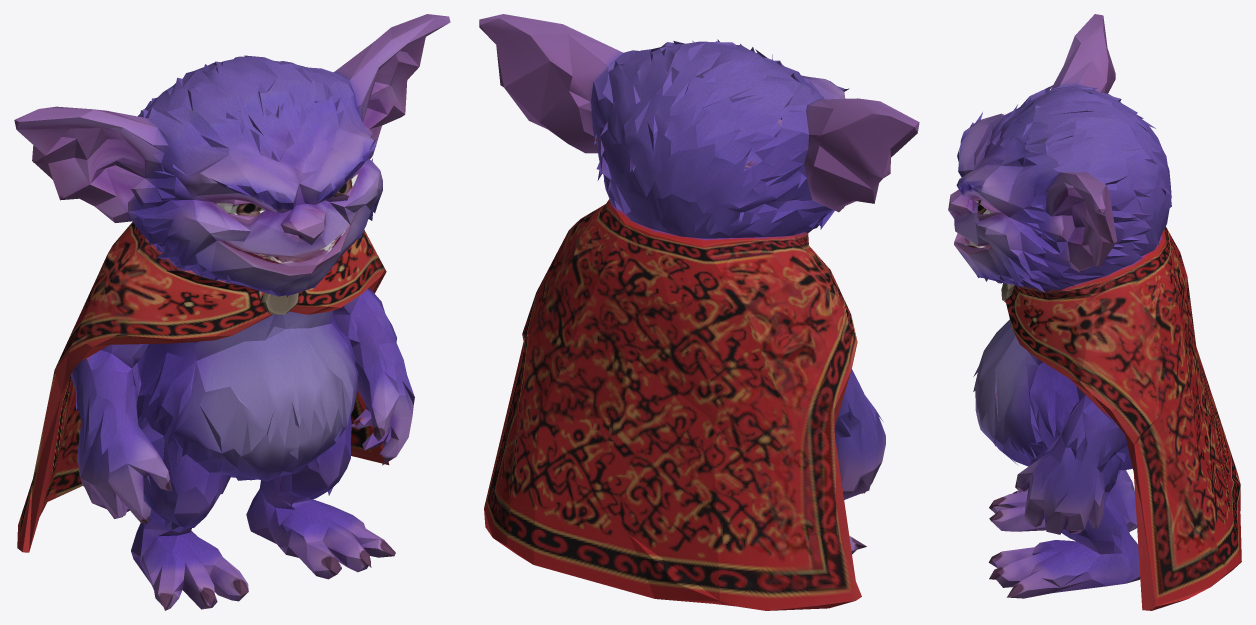
Rendered from rug-gremlin.glb.
The picture shows the model from 3 angles, left to right: view 1: azimuth 30°, elevation 25°; view 2: azimuth 150°, elevation 25°; view 3: azimuth 270°, elevation 25°; orthographic projection. The views are drawn at different scales.
Bounding box in the file's own units: 1.74 × 1.9 × 1.12.
Materials: 1 (1 with a texture image).
